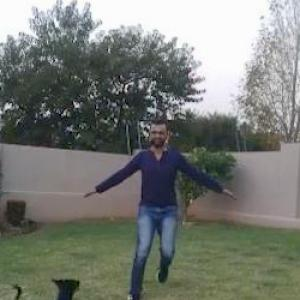land: (79, 89, 255, 299)
